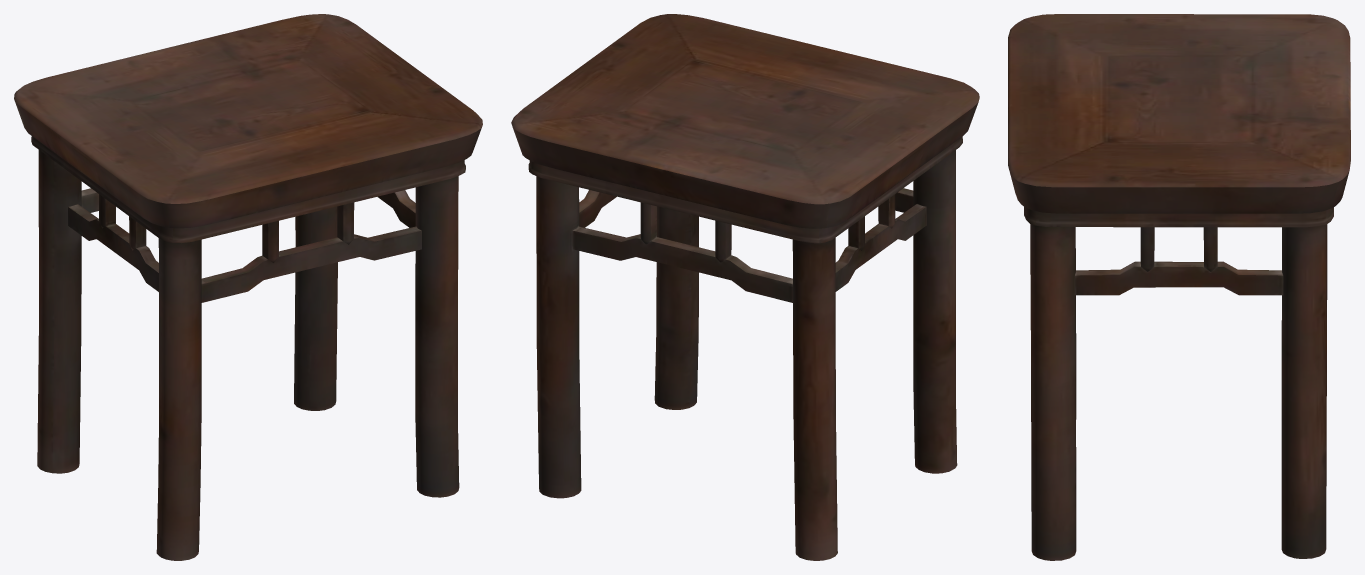
Rendered from chinese_stool.glb.
3 views of the same model, side by side, from view 1: azimuth 30°, elevation 25°; view 2: azimuth 150°, elevation 25°; view 3: azimuth 270°, elevation 25° (orthographic). The views are drawn at different scales.
Parts seen in each view (by area): view 1: chinese_stool; view 2: chinese_stool; view 3: chinese_stool.
Boxes of the visible parts, left/top/right/bottom form: chinese_stool: left=14, top=14, right=482, bottom=560; chinese_stool: left=511, top=14, right=979, bottom=560; chinese_stool: left=1008, top=14, right=1350, bottom=560.
Size of the model in its own units: 0.599 by 0.6306 by 0.5064.
Materials: 1 (1 with a texture image).
